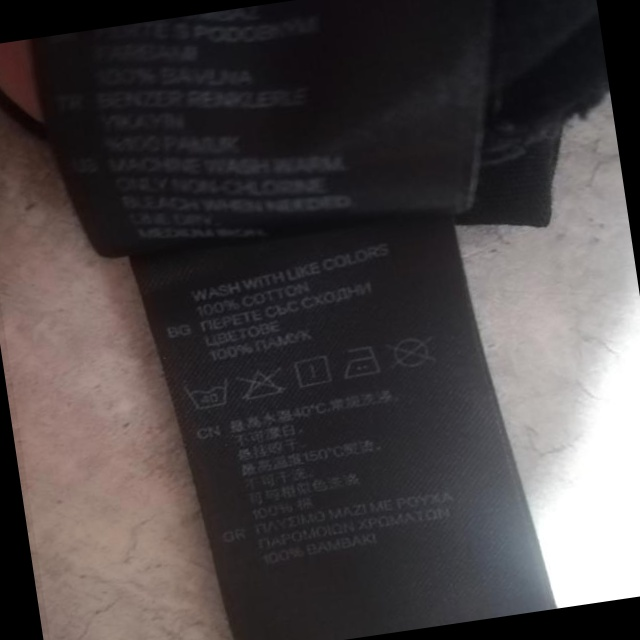40C: (185, 371, 236, 414)
DN_bleach: (237, 362, 290, 407)
DN_dry_clean: (382, 329, 442, 377)
iron_medium: (338, 342, 385, 385)
